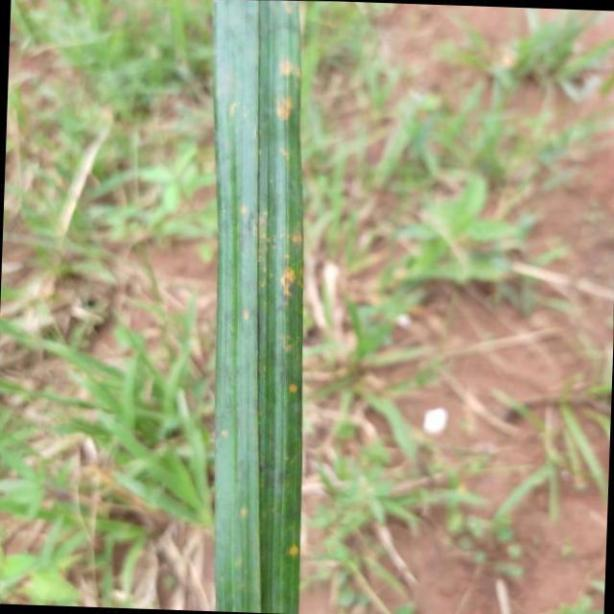Kalium: (207, 0, 306, 614)
